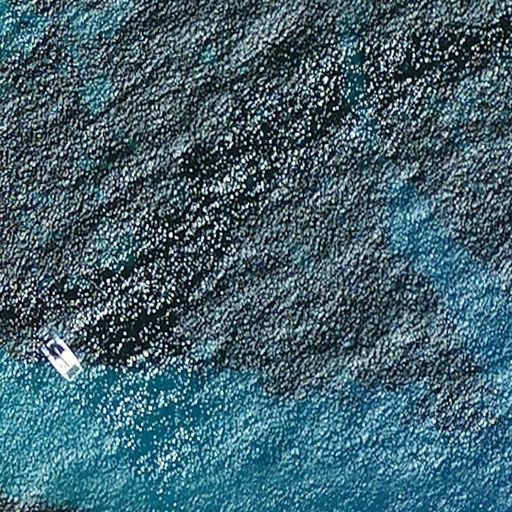ship: (38, 332, 86, 385)
